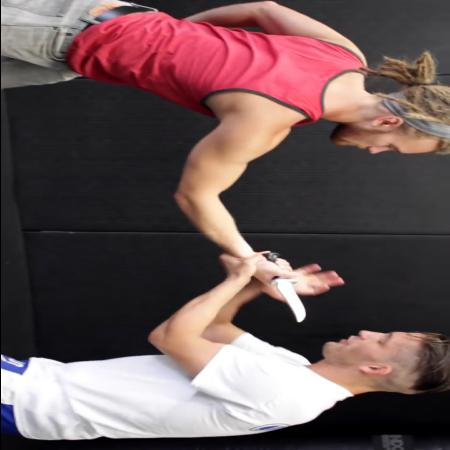long weapon: (260, 247, 317, 325)
